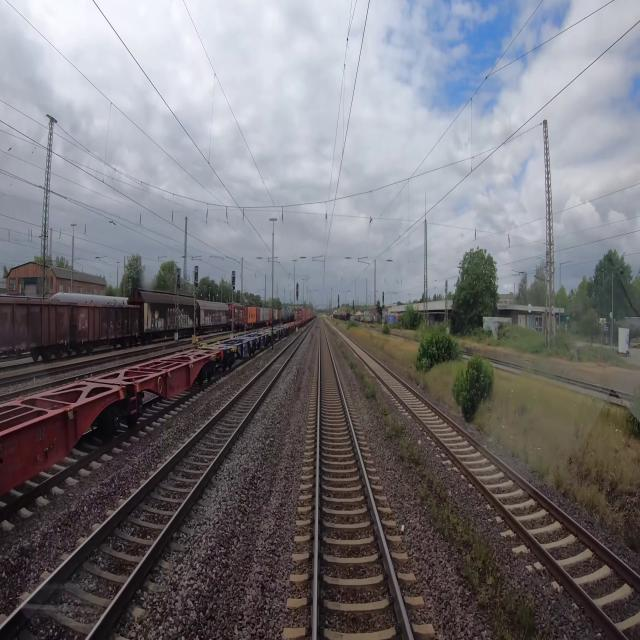Plant: (332, 318, 639, 549), (383, 412, 536, 639), (341, 346, 390, 412)
